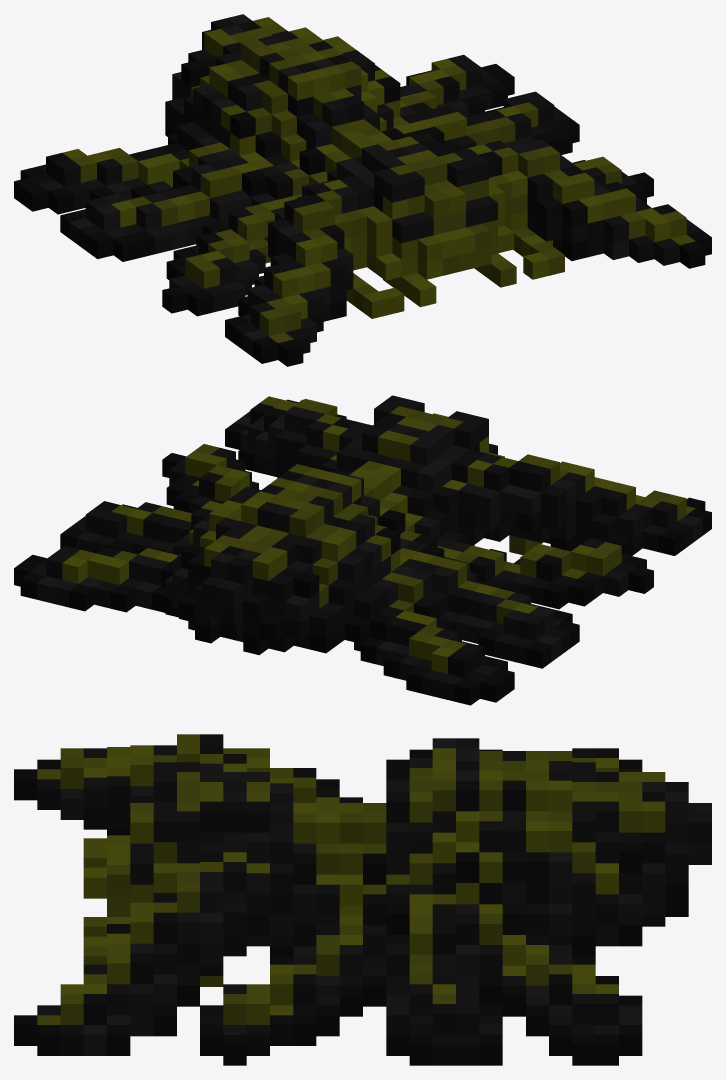
File: Spider1.glb
3 views of the same model, one above another, from view 1: azimuth 30°, elevation 25°; view 2: azimuth 150°, elevation 25°; view 3: azimuth 270°, elevation 25° (orthographic). The views are drawn at different scales.
Visible parts, largest first — view 1: spider1; view 2: spider1; view 3: spider1.
Part boxes in pixels (left/top/right/bottom): spider1: left=14, top=14, right=711, bottom=366; spider1: left=14, top=395, right=711, bottom=705; spider1: left=14, top=734, right=711, bottom=1065.
Bounding box in the file's own units: 3 × 0.7 × 3.
